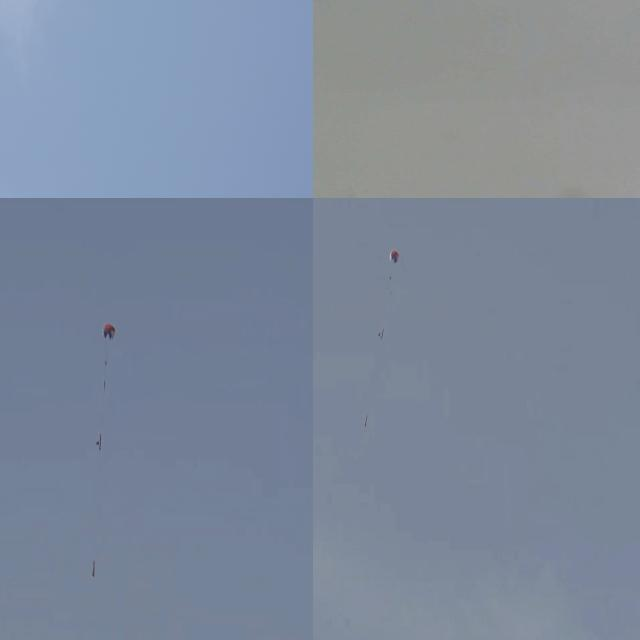Rocket: (92, 561, 95, 577), (364, 415, 368, 427)
